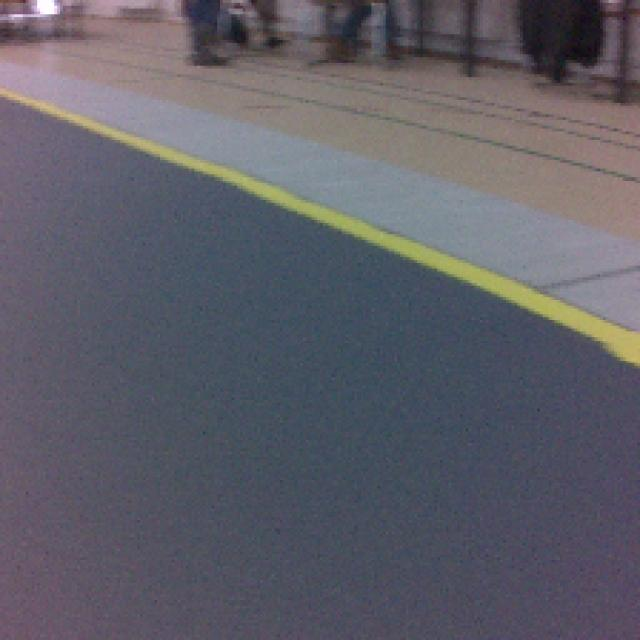Pedestrian crosswalk: (214, 170, 640, 364)
